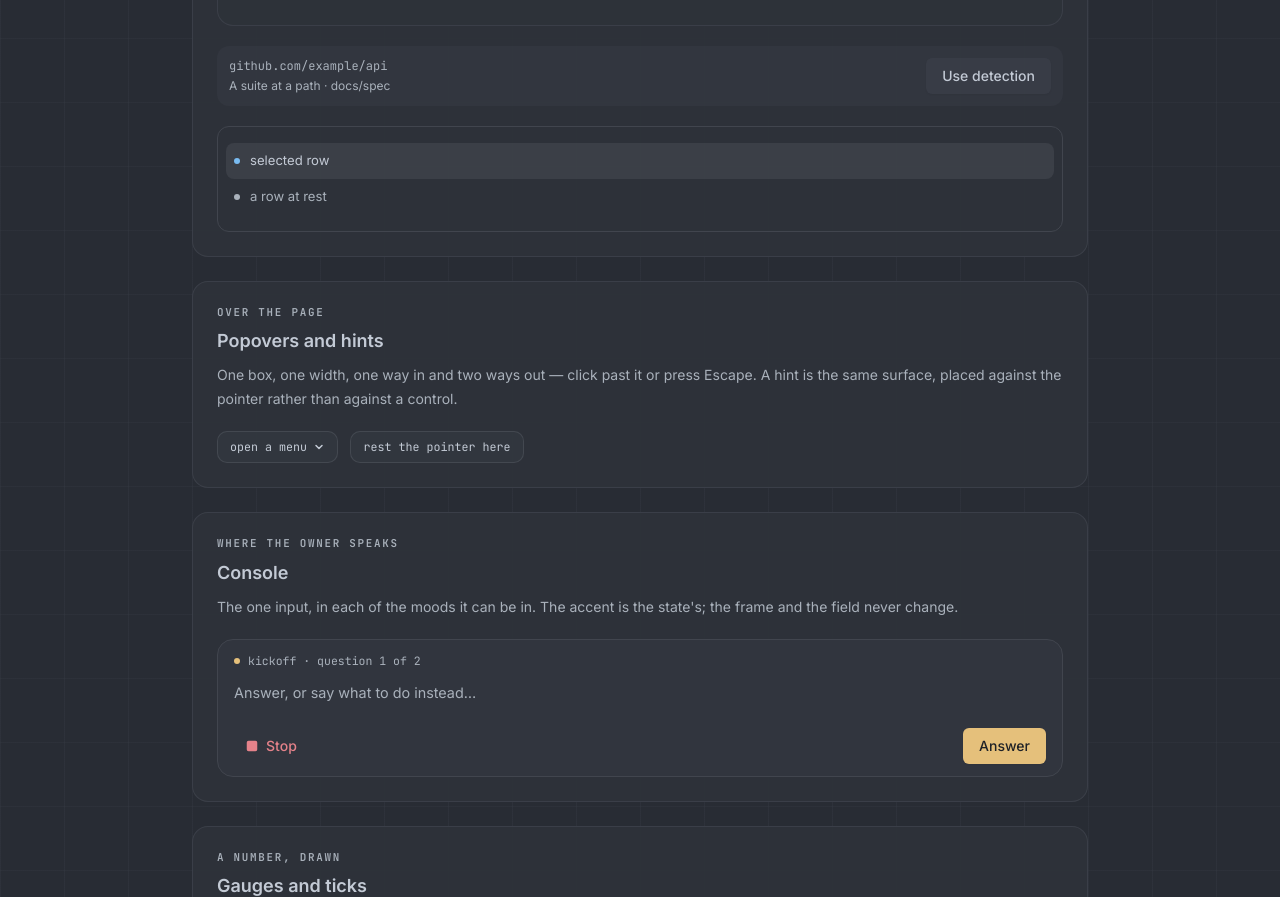
Test: KitScreen › the specimens are live, not pictures of controls
The width and height of the screenshot is (1280, 897).
(page scrolled)
Click the button "open a menu": (278, 447) [217, 431, 338, 463]
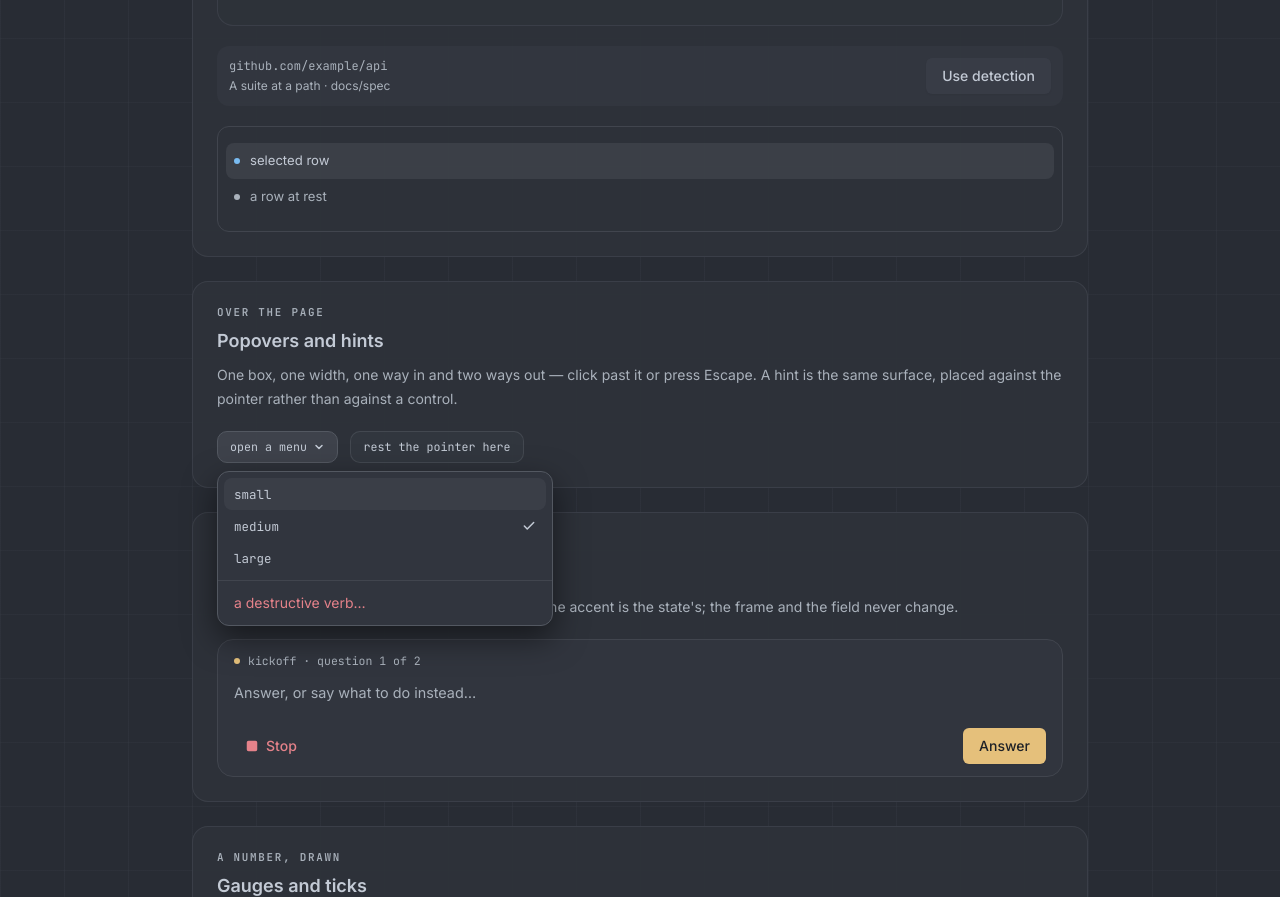
Expected: the menu named "A menu" is shown, [217, 471, 553, 626]
Press Escape
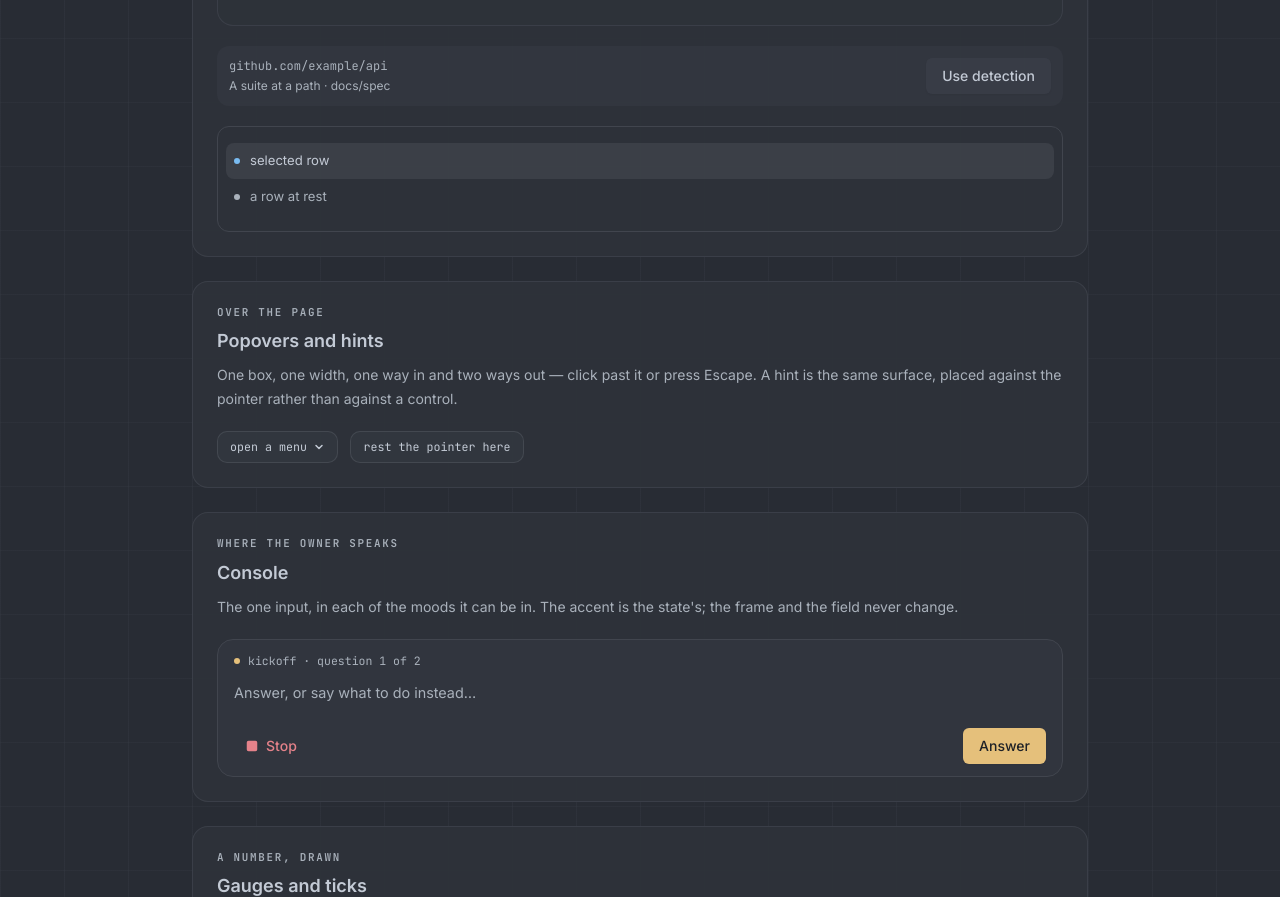
Expected: the menu is gone
